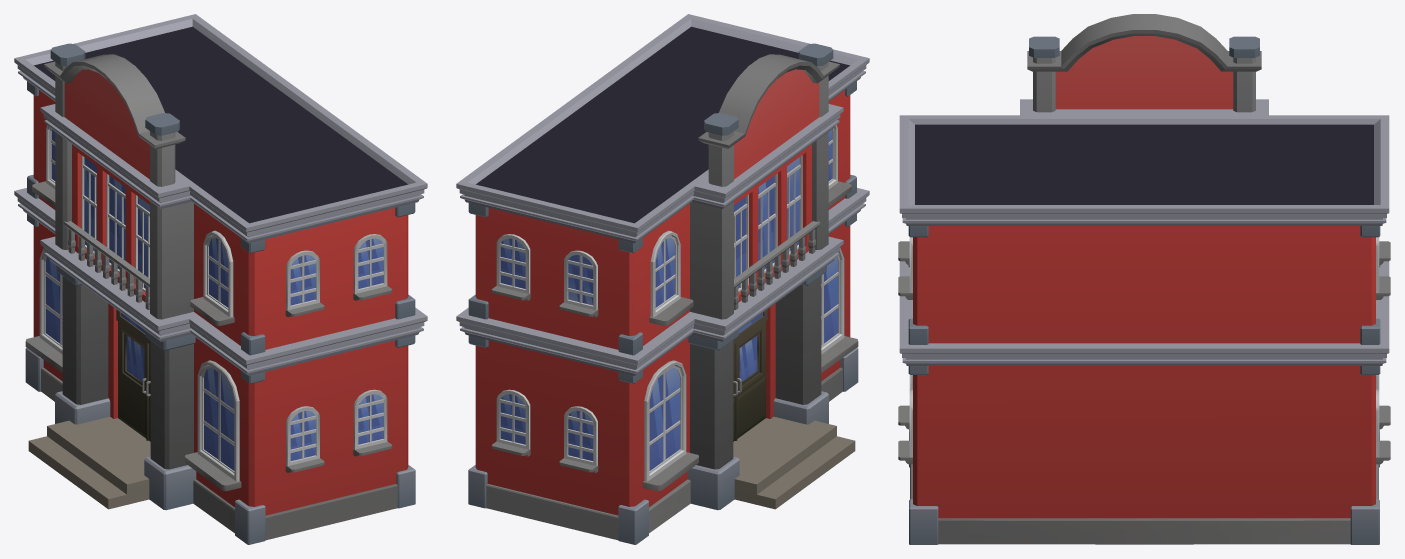
File: Building_24_I.glb
3 renders of one model, left to right at view 1: azimuth 30°, elevation 25°; view 2: azimuth 150°, elevation 25°; view 3: azimuth 270°, elevation 25°, orthographic. The views are drawn at different scales.
Parts seen in each view (by area): view 1: Building_24_I; view 2: Building_24_I; view 3: Building_24_I.
Part boxes in pixels (<box>): Building_24_I: <box>14,14,427,544</box>; Building_24_I: <box>456,14,869,544</box>; Building_24_I: <box>898,14,1390,544</box>.
Size of the model in its own units: 5.35 by 8.47 by 8.88.
3 materials, 3 textured.
